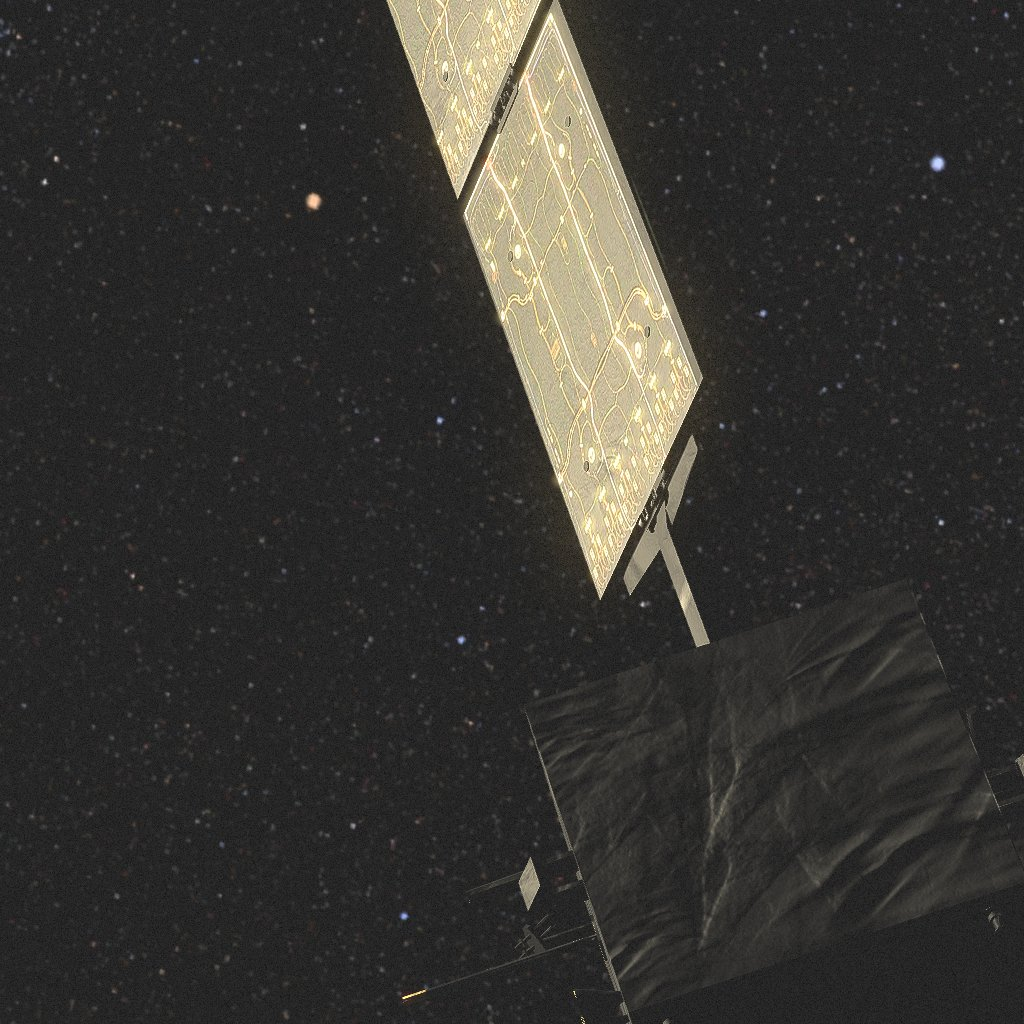smart_1: (387, 0, 1024, 1024)
